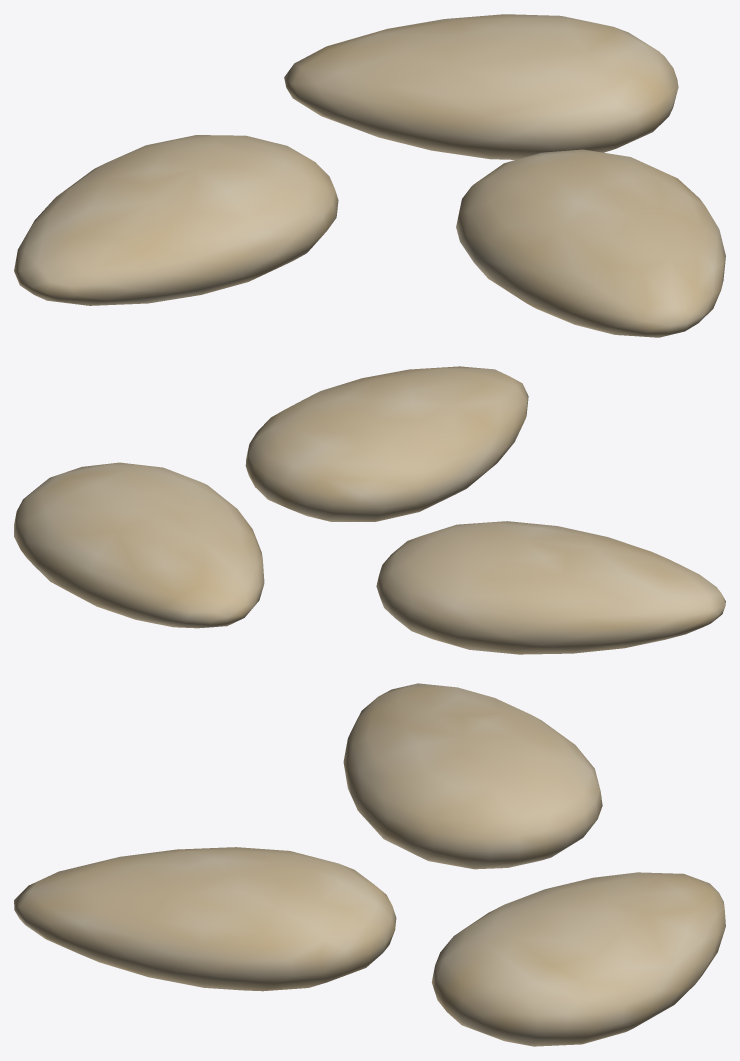
Rendered from mandeln.glb.
3 renders of one model, top to bottom at view 1: azimuth 30°, elevation 25°; view 2: azimuth 150°, elevation 25°; view 3: azimuth 270°, elevation 25°, orthographic. The views are drawn at different scales.
Parts seen in each view (by area): view 1: p1, p0, p2; view 2: p0, p2, p1; view 3: p2, p1, p0.
Part boxes in pixels (bbox=[...]): p1: bbox=[284, 14, 678, 159]; p0: bbox=[14, 135, 338, 305]; p2: bbox=[456, 149, 725, 337]; p0: bbox=[376, 521, 725, 654]; p2: bbox=[245, 366, 528, 521]; p1: bbox=[14, 462, 264, 628]; p2: bbox=[14, 847, 396, 991]; p1: bbox=[431, 872, 725, 1046]; p0: bbox=[343, 683, 602, 869].
Bounding box in the file's own units: 0.037 × 0.00502 × 0.0331.
